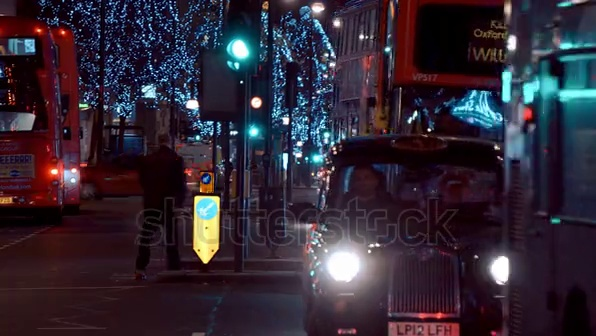licenseplate: (389, 324, 480, 331)
